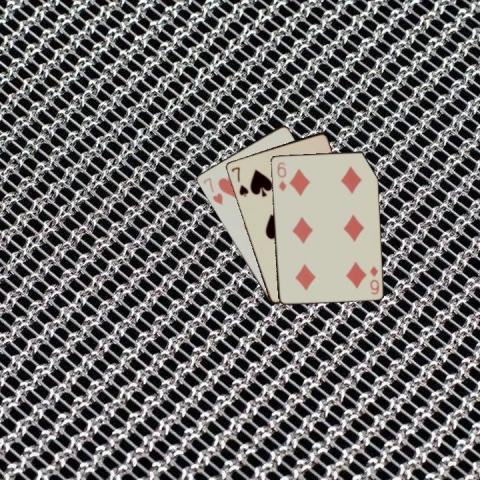6d: (274, 158, 287, 192), (367, 263, 380, 296)
7h: (199, 175, 224, 206)
7s: (228, 164, 249, 198)
